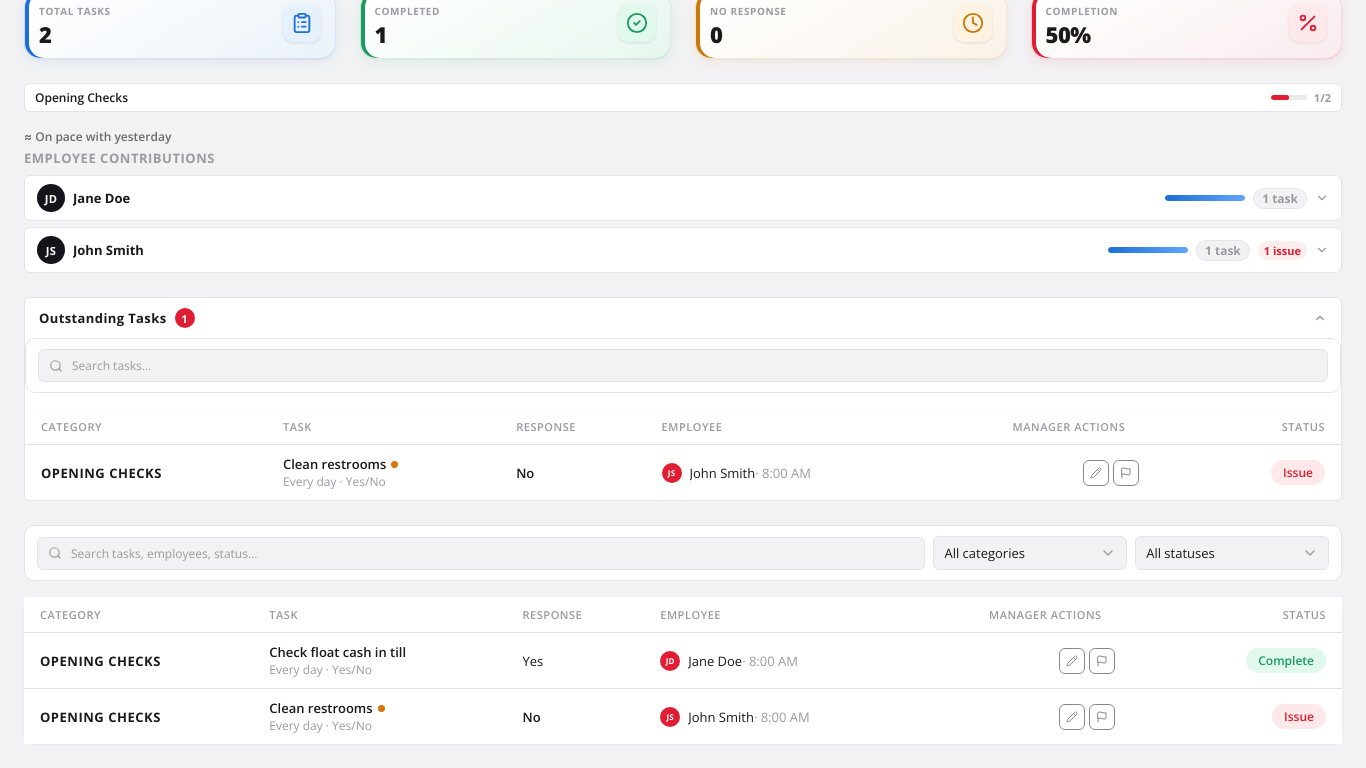
StoreDetail search › matches rows by response value
The image size is (1366, 768).
(page scrolled)
Check: the text "Check float cash in till" is shown, box x1=269 y1=643 x2=406 y2=661
Type "No" into the search field with placeholder "Search tasks, employees, status…" at [492, 553], box x1=69 y1=544 x2=914 y2=563
(page scrolled)
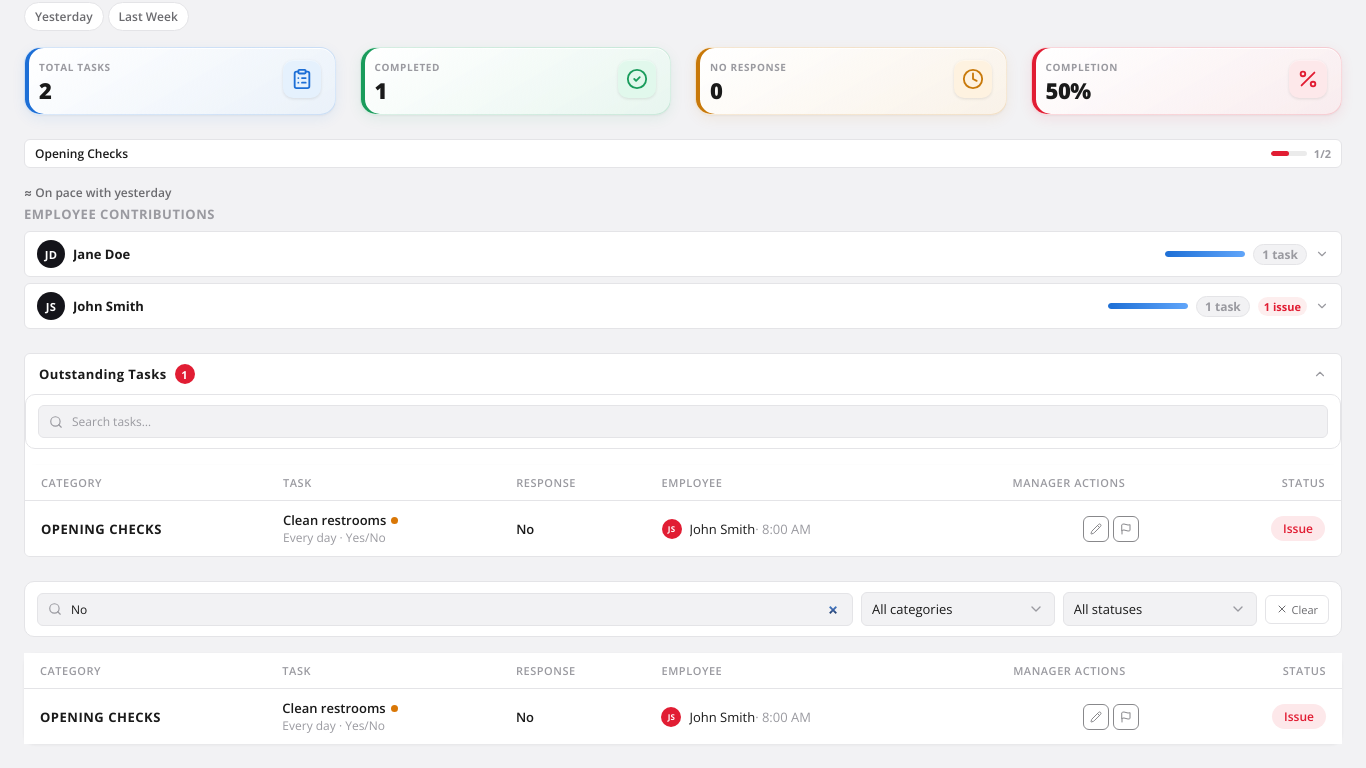
Check: the text "Clean restrooms" is shown, box x1=282 y1=699 x2=398 y2=717
Check: the text "Check float cash in till" is gone
